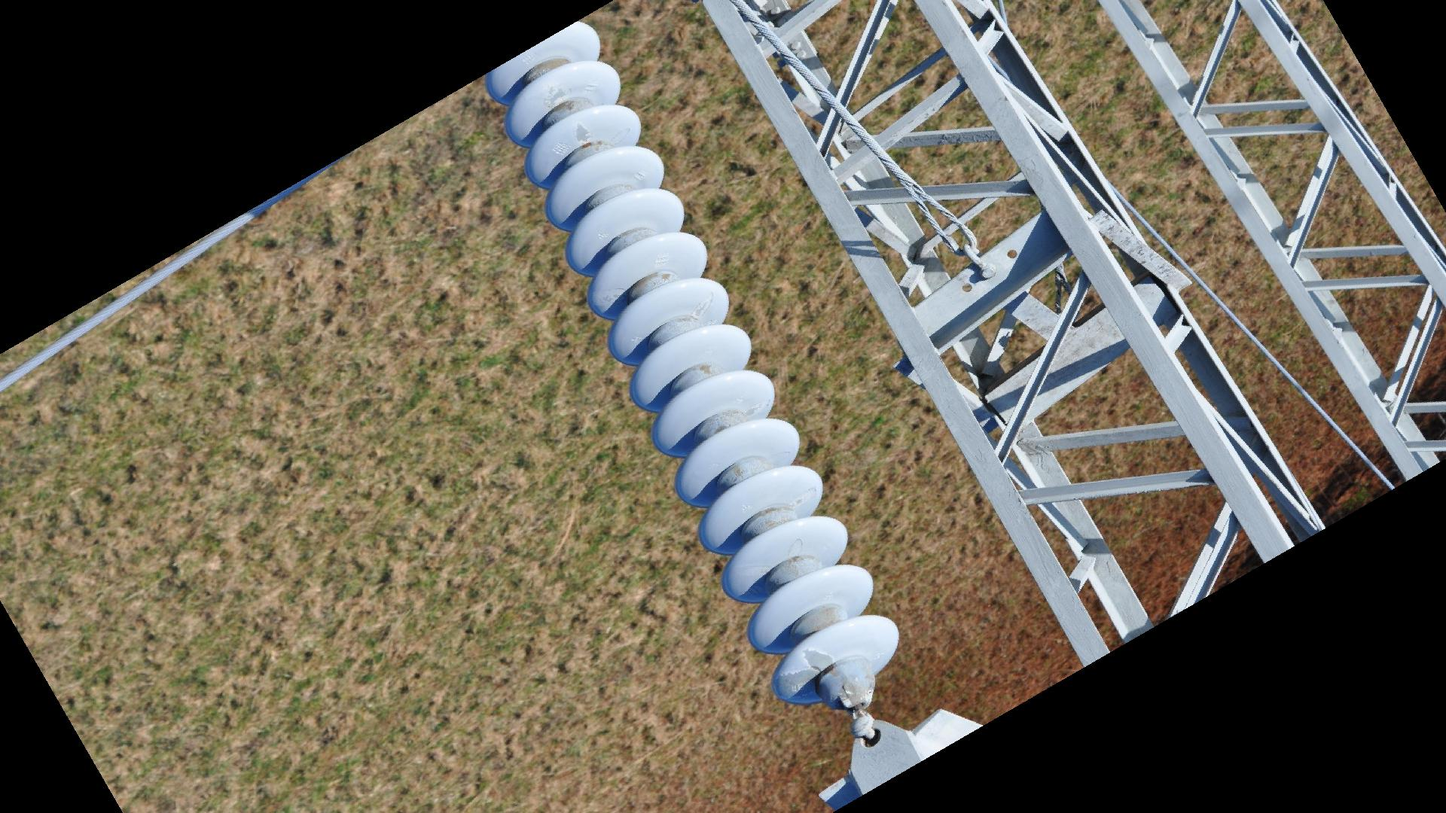insulator: (477, 17, 906, 717)
insulator_flashover: (772, 644, 834, 706)
